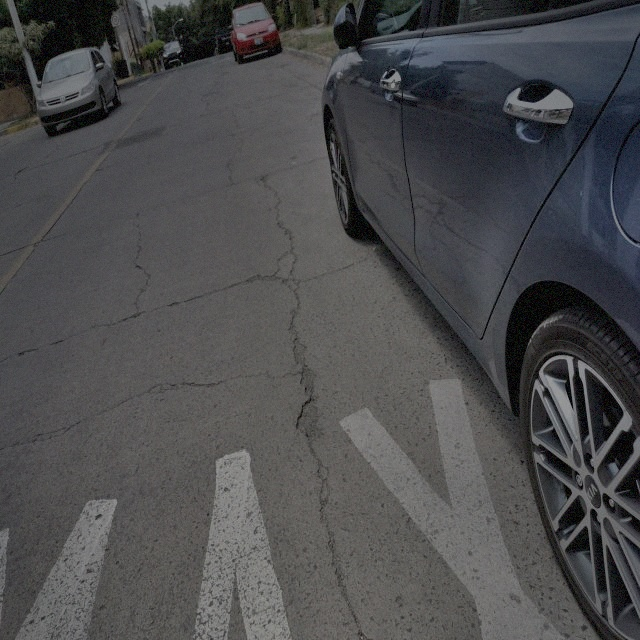pothole: (288, 329, 325, 445), (296, 393, 320, 436)
